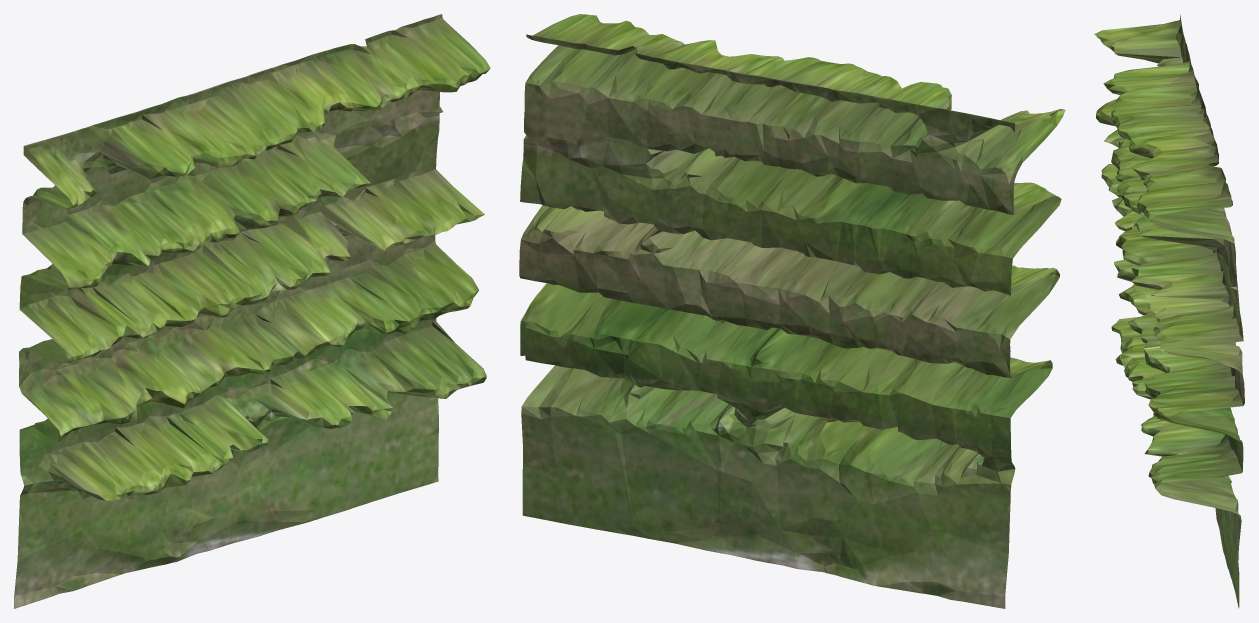
File: map_10_50.obj
3 renders of one model, left to right at view 1: azimuth 30°, elevation 25°; view 2: azimuth 150°, elevation 25°; view 3: azimuth 270°, elevation 25°, orthographic. The views are drawn at different scales.
Visible parts, largest first — view 1: grp1; view 2: grp1; view 3: grp1.
Boxes of the visible parts, <box> form: grp1: <box>14,14,490,608</box>; grp1: <box>519,14,1065,608</box>; grp1: <box>1094,14,1244,608</box>.
Bounding box in the file's own units: 10 × 10 × 3.37.
Materials: 1 (1 with a texture image).
